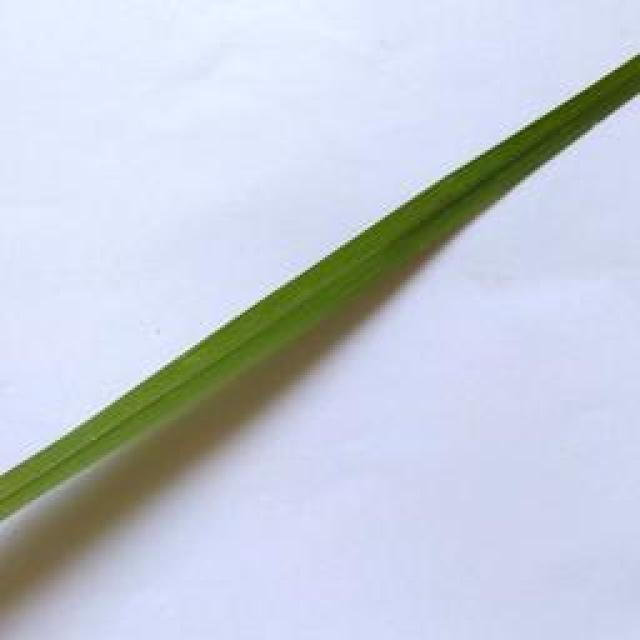Healthy-Plant: (160, 54, 640, 398)
